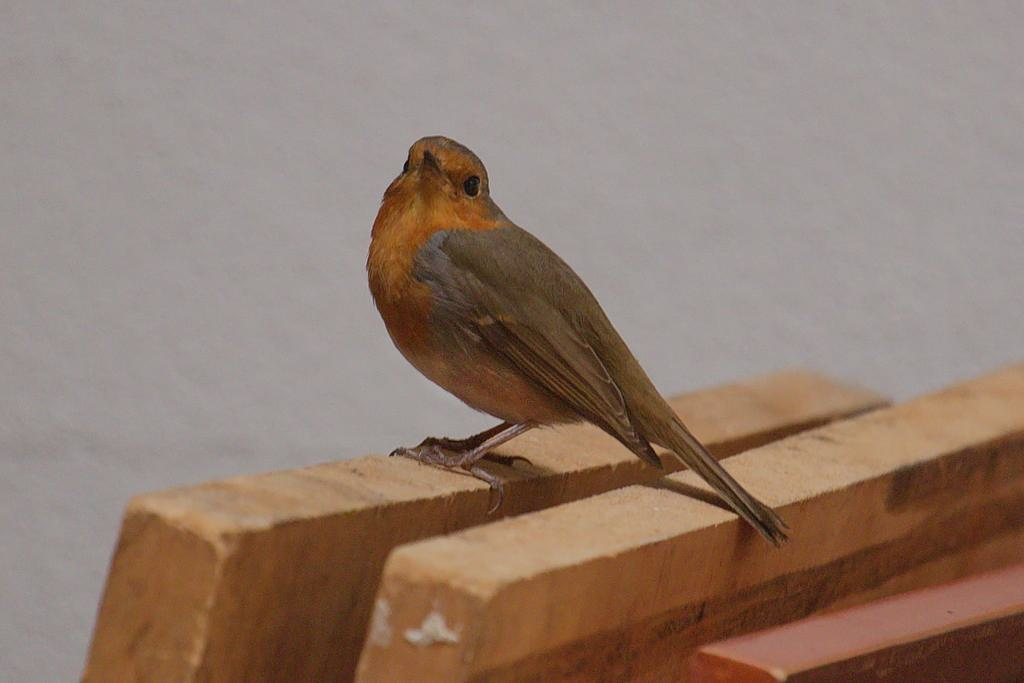ErithacusRubecula: (365, 135, 792, 551)
